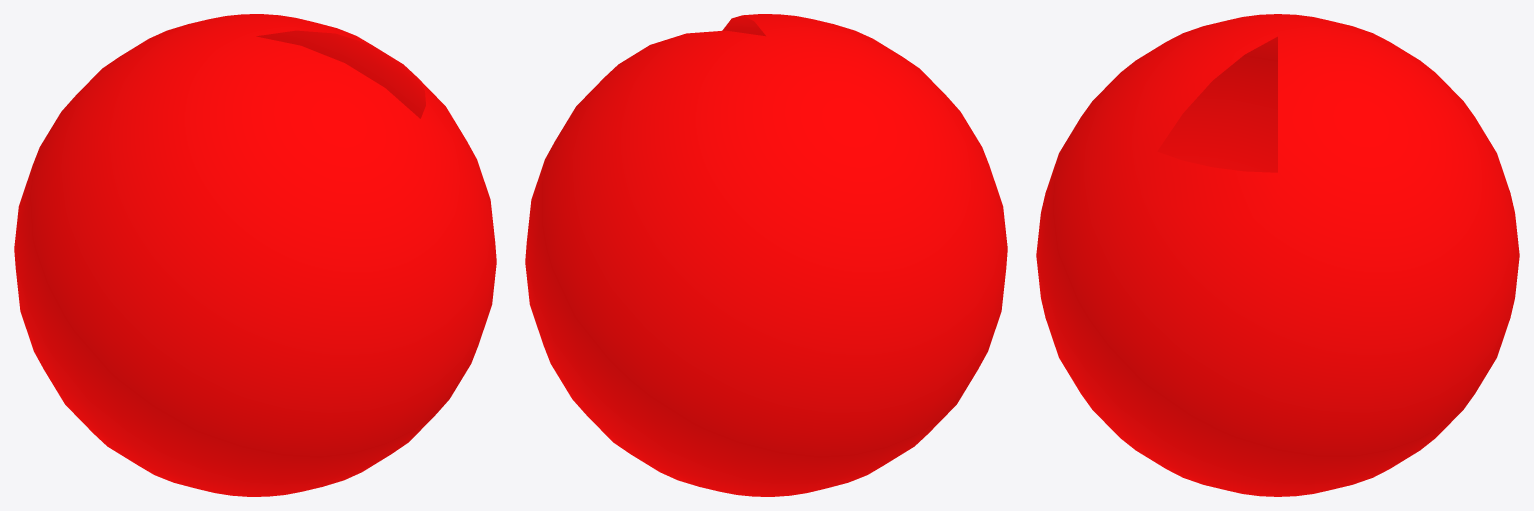
The model's file is sphericalshell.glb.
The picture shows the model from 3 angles, left to right: view 1: azimuth 30°, elevation 25°; view 2: azimuth 150°, elevation 25°; view 3: azimuth 270°, elevation 25°; orthographic projection.
Parts seen in each view (by area): view 1: Sphere; view 2: Sphere; view 3: Sphere.
Boxes of the visible parts, box(x1,y1,x2,y2) form: Sphere: box(14, 14, 496, 496); Sphere: box(525, 14, 1007, 496); Sphere: box(1036, 14, 1519, 496).
Bounding box in the file's own units: 0.2 × 0.2 × 0.2.
